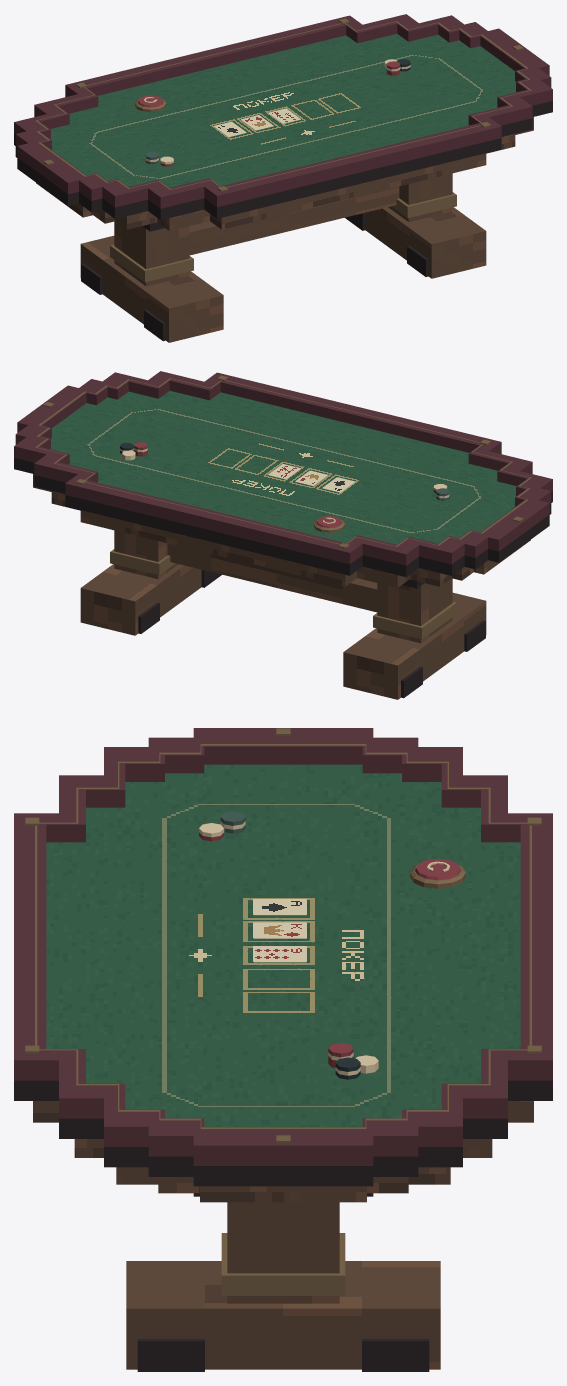
The model's file is poker.glb.
3 views of the same model, one above another, from view 1: azimuth 30°, elevation 25°; view 2: azimuth 150°, elevation 25°; view 3: azimuth 270°, elevation 25° (orthographic). The views are drawn at different scales.
Parts seen in each view (by area): view 1: Cloth playing surface, Armrest, Square outer rail, Trestle foot, Trestle foot.001, Timber apron, Stretcher, Square column, Brass inset, Square column.001, Column collar, Column collar.001 (+3 smaller); view 2: Cloth playing surface, Armrest, Square outer rail, Trestle foot, Trestle foot.001, Timber apron, Stretcher, Square column, Brass inset, Square column.001, Column collar, Column collar.001 (+3 smaller); view 3: Cloth playing surface, Armrest, Trestle foot.001, Square outer rail, Square column.001, Timber apron, Brass inset, Column collar.001, Foot shoe.002, Foot shoe.003, Playing card ace, Playing card king (+1 smaller).
Part boxes in pixels (x1,y1,x2,y2): Cloth playing surface: [50, 34, 516, 187]; Armrest: [14, 14, 552, 208]; Square outer rail: [14, 96, 552, 220]; Trestle foot: [80, 235, 223, 342]; Trestle foot.001: [365, 207, 486, 278]; Timber apron: [36, 117, 533, 230]; Stretcher: [189, 186, 399, 255]; Square column: [114, 221, 189, 286]; Brass inset: [35, 21, 531, 190]; Square column.001: [388, 173, 452, 221]; Column collar: [110, 244, 193, 282]; Column collar.001: [391, 192, 456, 218]; Cloth playing surface: [50, 391, 516, 544]; Armrest: [14, 371, 552, 565]; Square outer rail: [14, 453, 552, 577]; Trestle foot: [343, 592, 486, 699]; Trestle foot.001: [80, 564, 201, 635]; Timber apron: [33, 474, 530, 587]; Stretcher: [167, 543, 377, 612]; Square column: [377, 578, 452, 643]; Brass inset: [35, 378, 531, 547]; Square column.001: [114, 530, 178, 578]; Column collar: [373, 601, 456, 639]; Column collar.001: [110, 549, 175, 575]; Cloth playing surface: [46, 764, 520, 1126]; Armrest: [14, 728, 552, 1165]; Trestle foot.001: [126, 1261, 440, 1369]; Square outer rail: [14, 1080, 552, 1186]; Square column.001: [227, 1202, 339, 1303]; Timber apron: [33, 1101, 533, 1202]; Brass inset: [35, 744, 531, 1129]; Column collar.001: [221, 1233, 345, 1295]; Foot shoe.002: [137, 1339, 204, 1371]; Foot shoe.003: [362, 1339, 429, 1371]; Playing card ace: [253, 899, 306, 915]; Playing card king: [253, 922, 306, 938].
Bounding box in the file's own units: 2.75 × 0.913 × 1.5.
Materials: 13 (5 with a texture image).
